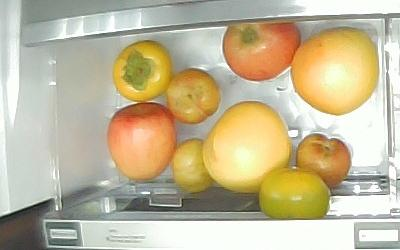apple: (107, 102, 176, 182), (222, 21, 299, 82)
grapefruit: (202, 101, 291, 192), (290, 27, 379, 114)
persimmon: (258, 168, 330, 220), (112, 40, 172, 101)
prune: (295, 132, 351, 190), (166, 67, 221, 124), (171, 139, 211, 194)
